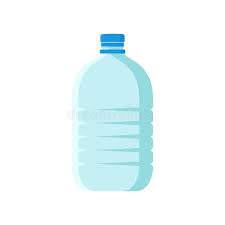unavailable: (62, 27, 163, 195)
